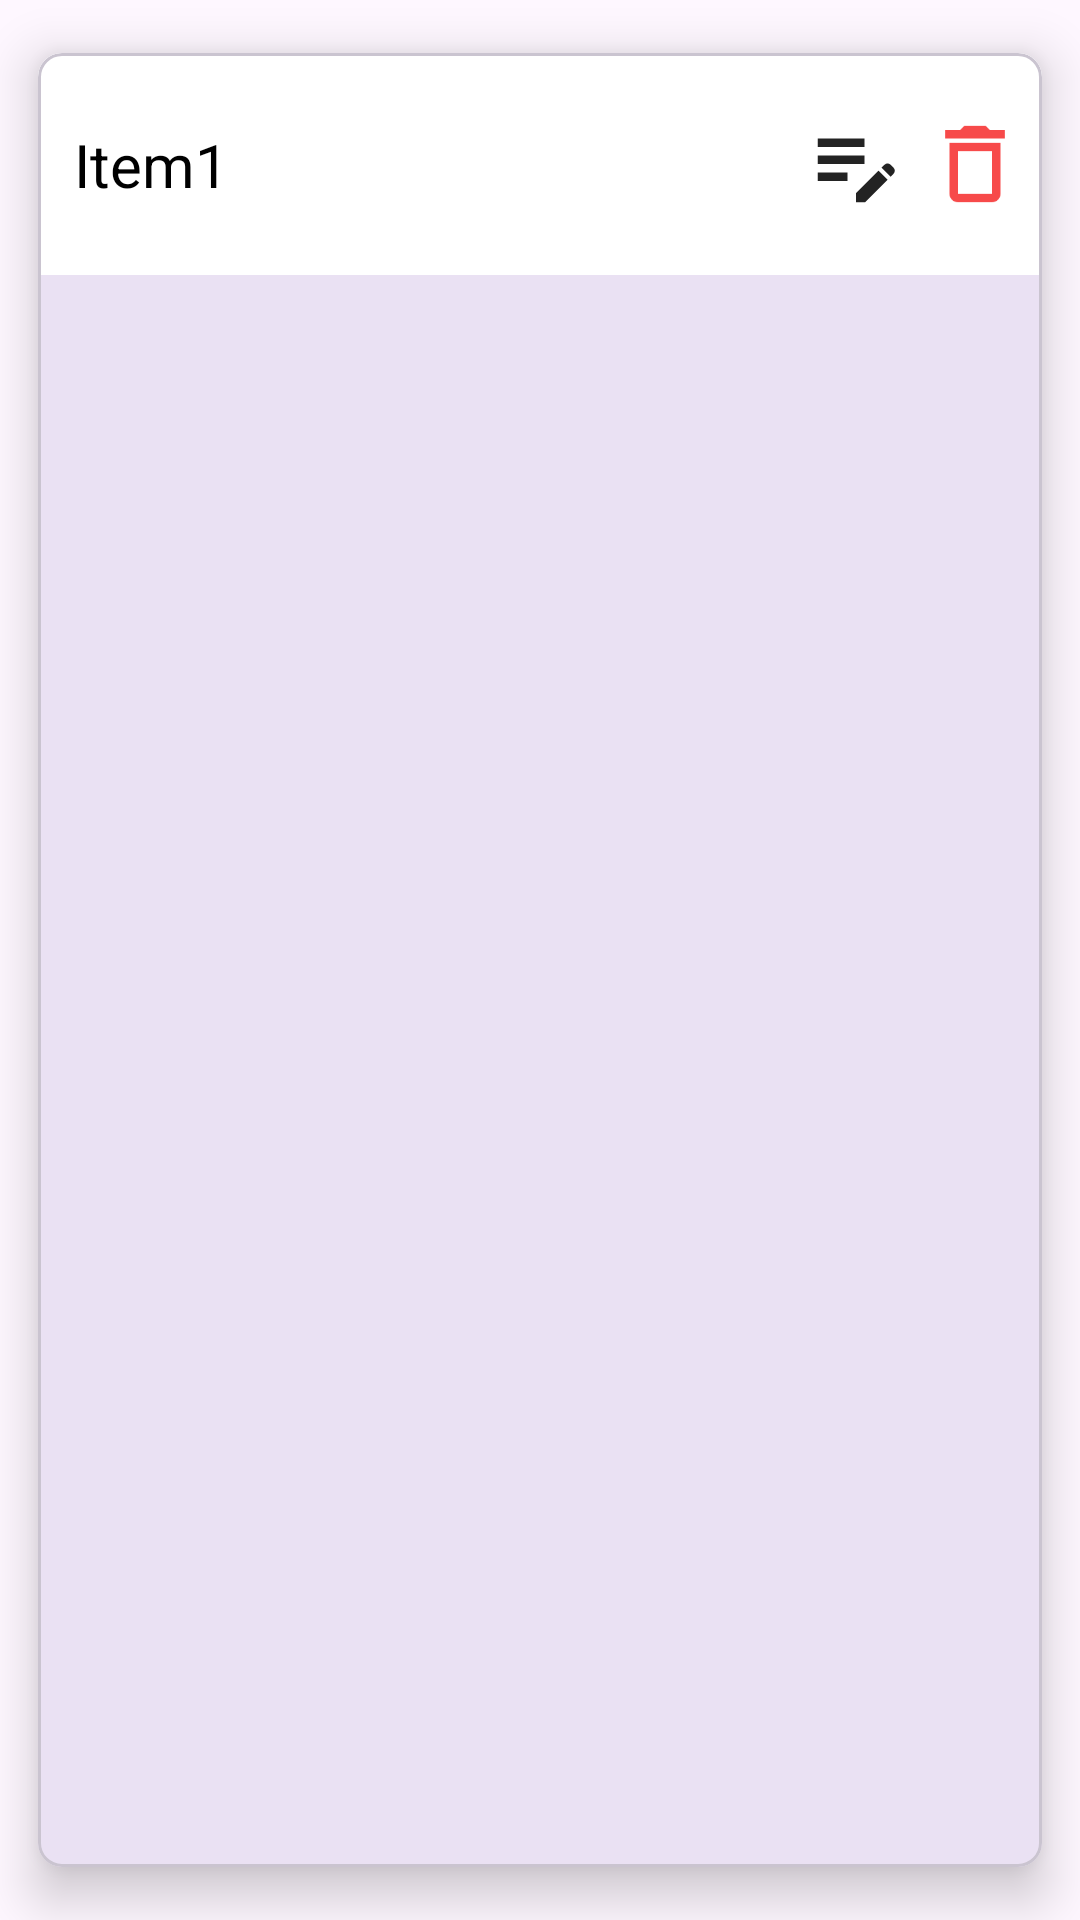

Icons on this 1080w x 1920h Android screen, each with its box as (x1, y1, x2, y2):
delete: (945, 125, 1005, 203)
edit note: (817, 138, 895, 203)
